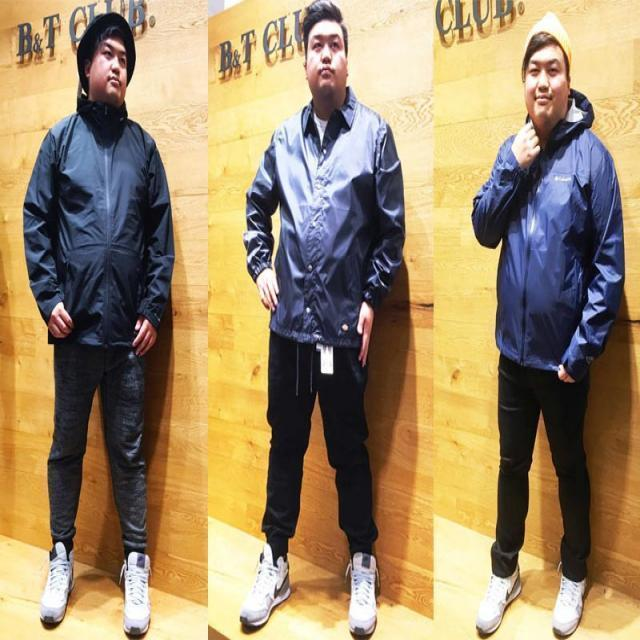direk: (243, 4, 402, 640), (469, 19, 627, 640), (25, 12, 179, 640)
